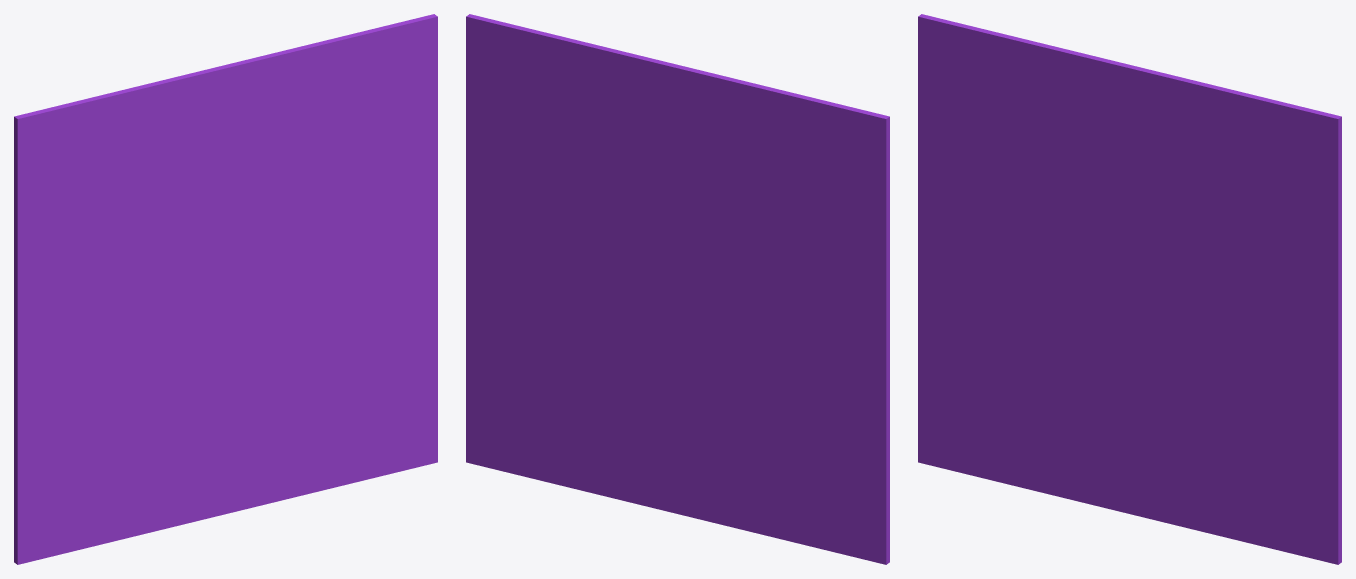
The model's file is Window_37_chunks.fbx.
The picture shows the model from 3 angles, left to right: view 1: azimuth 30°, elevation 25°; view 2: azimuth 150°, elevation 25°; view 3: azimuth 330°, elevation 25°; orthographic projection.
Parts seen in each view (by area): view 1: Window_37_0, Window_37_2, Window_37_1, Window_37_3; view 2: Window_37_0, Window_37_2, Window_37_1, Window_37_3; view 3: Window_37_0, Window_37_2, Window_37_1, Window_37_3.
Boxes of the visible parts, bbox=[...] form: Window_37_0: bbox=[14, 294, 306, 564]; Window_37_2: bbox=[14, 66, 232, 367]; Window_37_1: bbox=[226, 136, 437, 494]; Window_37_3: bbox=[221, 14, 437, 282]; Window_37_0: bbox=[592, 290, 889, 564]; Window_37_2: bbox=[676, 64, 889, 364]; Window_37_1: bbox=[466, 146, 672, 492]; Window_37_3: bbox=[466, 14, 680, 292]; Window_37_0: bbox=[918, 265, 1206, 532]; Window_37_2: bbox=[918, 14, 1132, 292]; Window_37_1: bbox=[1127, 239, 1341, 564]; Window_37_3: bbox=[1128, 64, 1341, 284].
Bounding box in the file's own units: 1826 × 1851 × 27.2.
